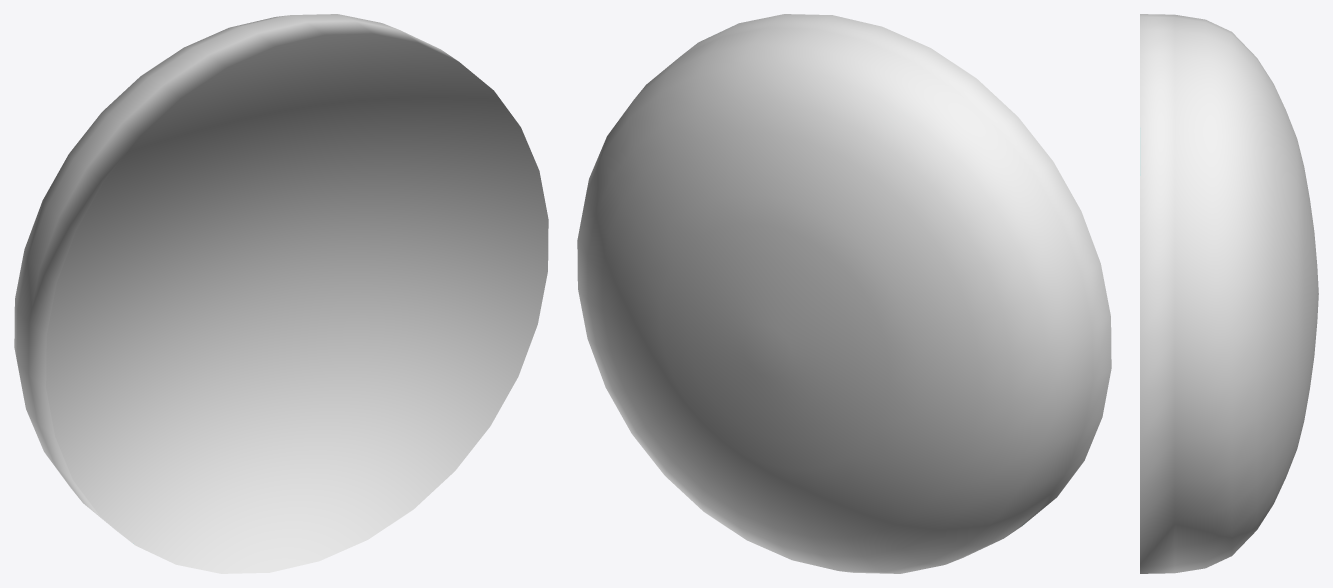
Rendered from eyedome.fbx.
3 views of the same model, side by side, from view 1: azimuth 30°, elevation 25°; view 2: azimuth 150°, elevation 25°; view 3: azimuth 270°, elevation 25° (orthographic). The views are drawn at different scales.
Visible parts, largest first — view 1: Eyedome; view 2: Eyedome; view 3: Eyedome.
Part boxes in pixels (x1,y1,x2,y2): Eyedome: [14, 14, 548, 573]; Eyedome: [577, 14, 1111, 573]; Eyedome: [1140, 14, 1318, 573].
Size of the model in its own units: 70.11 by 70.11 by 22.44.
